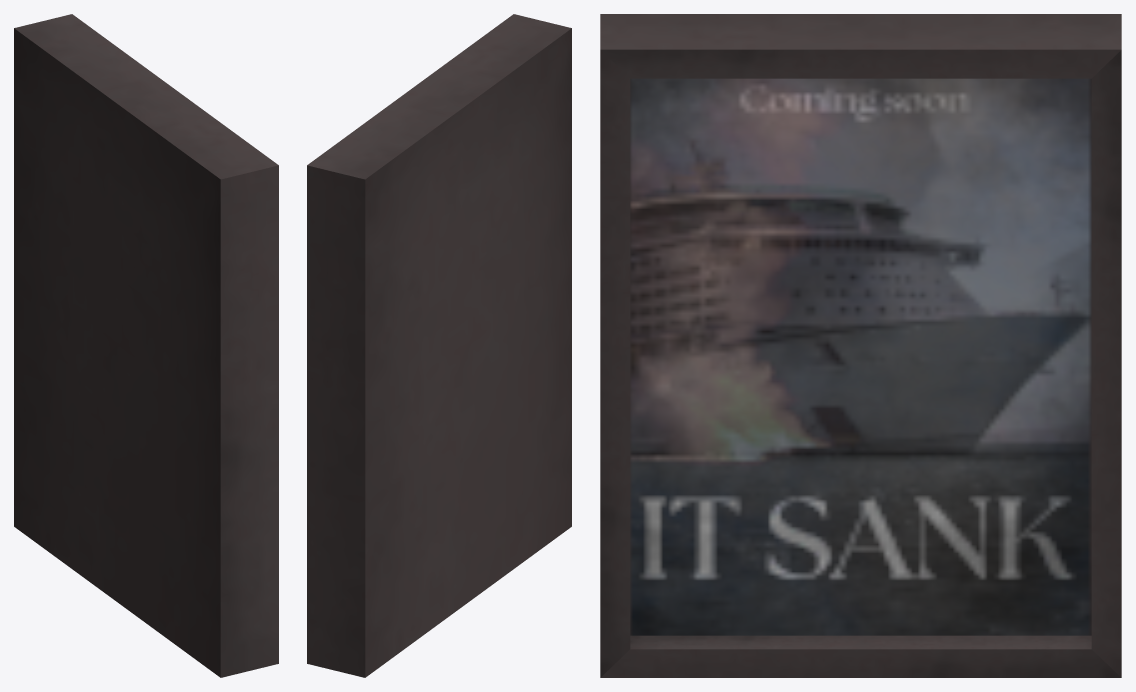
File: movieposter01.fbx
3 views of the same model, side by side, from view 1: azimuth 30°, elevation 25°; view 2: azimuth 150°, elevation 25°; view 3: azimuth 270°, elevation 25° (orthographic). The views are drawn at different scales.
Parts seen in each view (by area): view 1: Cube; view 2: Cube; view 3: Cube.
Boxes of the visible parts, bbox=[...] form: Cube: bbox=[14, 14, 278, 677]; Cube: bbox=[307, 14, 571, 677]; Cube: bbox=[600, 14, 1121, 677].
Bounding box in the file's own units: 36.64 × 300 × 226.
